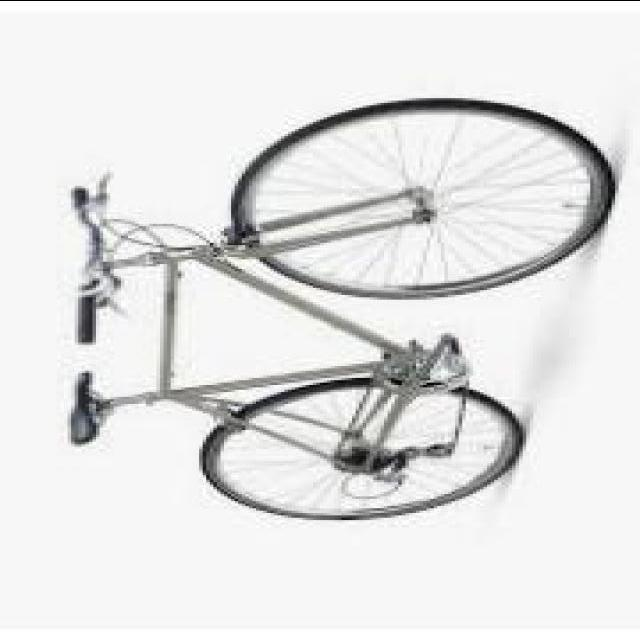bicycle: (44, 98, 581, 530)
